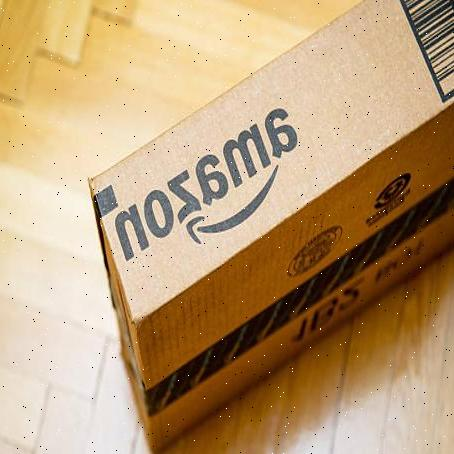Amazon: (87, 1, 454, 454)
